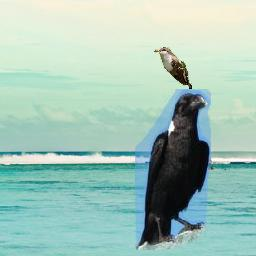Crow: (135, 90, 211, 251)
Cuckoo: (154, 47, 192, 89)
